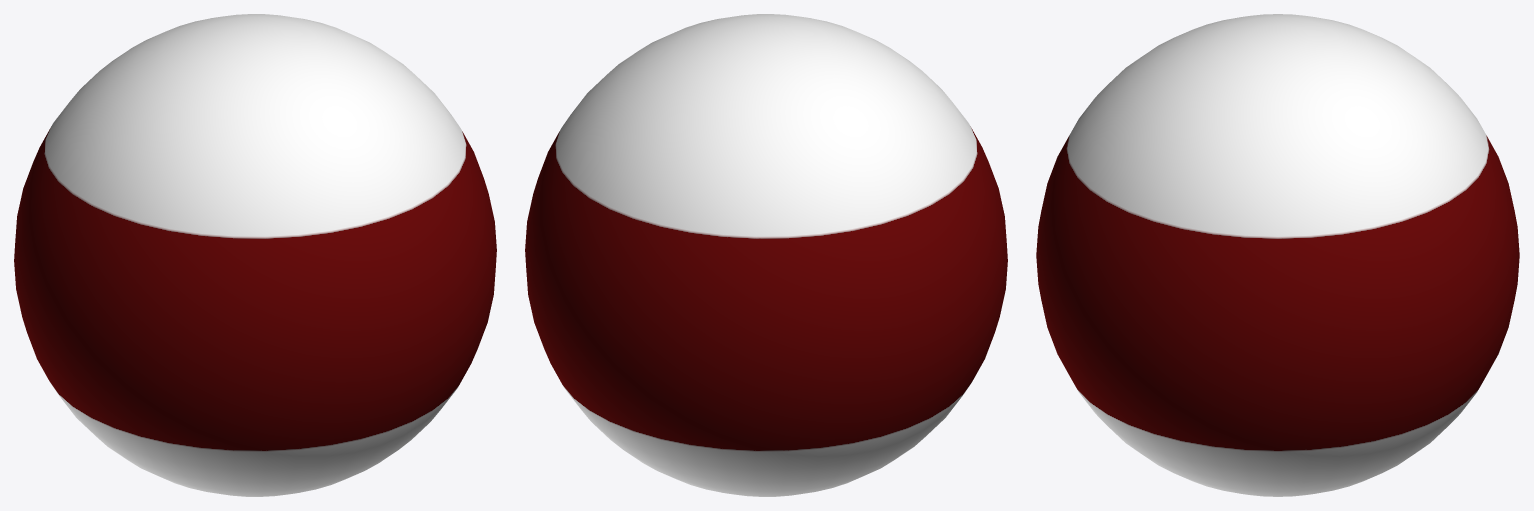
File: Ball_1.obj
3 views of the same model, side by side, from view 1: azimuth 30°, elevation 25°; view 2: azimuth 150°, elevation 25°; view 3: azimuth 270°, elevation 25° (orthographic).
Visible parts, largest first — view 1: 球_球.001; view 2: 球_球.001; view 3: 球_球.001.
Boxes of the visible parts, box(x1,y1,x2,y2) form: 球_球.001: box(14, 14, 496, 496); 球_球.001: box(525, 14, 1007, 496); 球_球.001: box(1036, 14, 1519, 496).
Size of the model in its own units: 2 by 2 by 2.
Materials: 1 (1 with a texture image).
